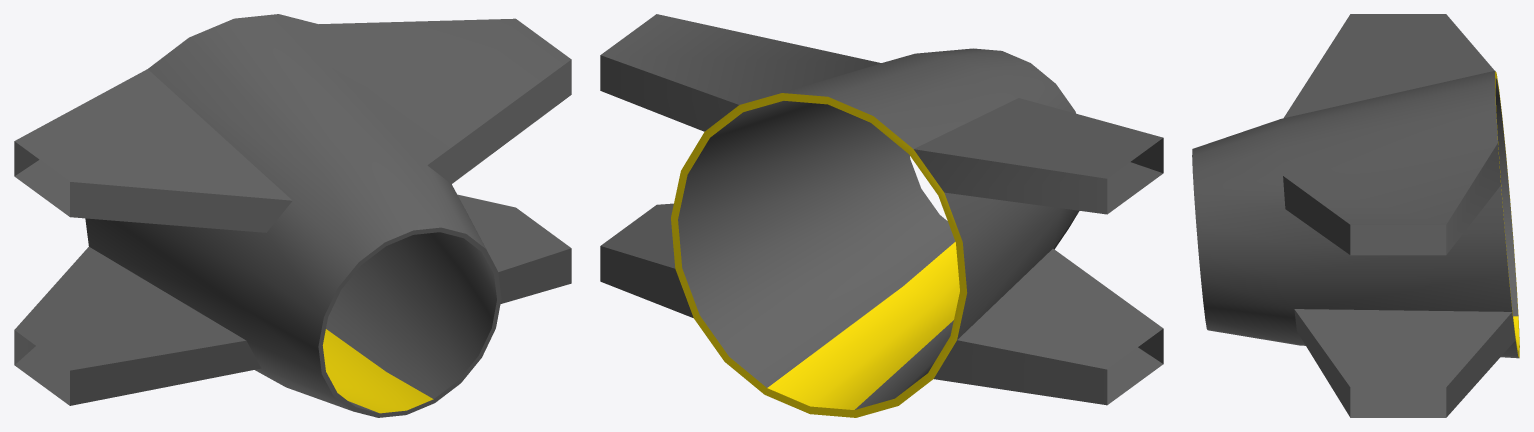
File: Beams_Union.fbx
3 renders of one model, left to right at view 1: azimuth 30°, elevation 25°; view 2: azimuth 150°, elevation 25°; view 3: azimuth 270°, elevation 25°, orthographic. The views are drawn at different scales.
Visible parts, largest first — view 1: Cylinder.002; view 2: Cylinder.002; view 3: Cylinder.002.
Boxes of the visible parts, <box> form: Cylinder.002: <box>14,14,571,417</box>; Cylinder.002: <box>600,14,1163,417</box>; Cylinder.002: <box>1192,14,1519,417</box>.
Bounding box in the file's own units: 2748 × 1593 × 1805.
